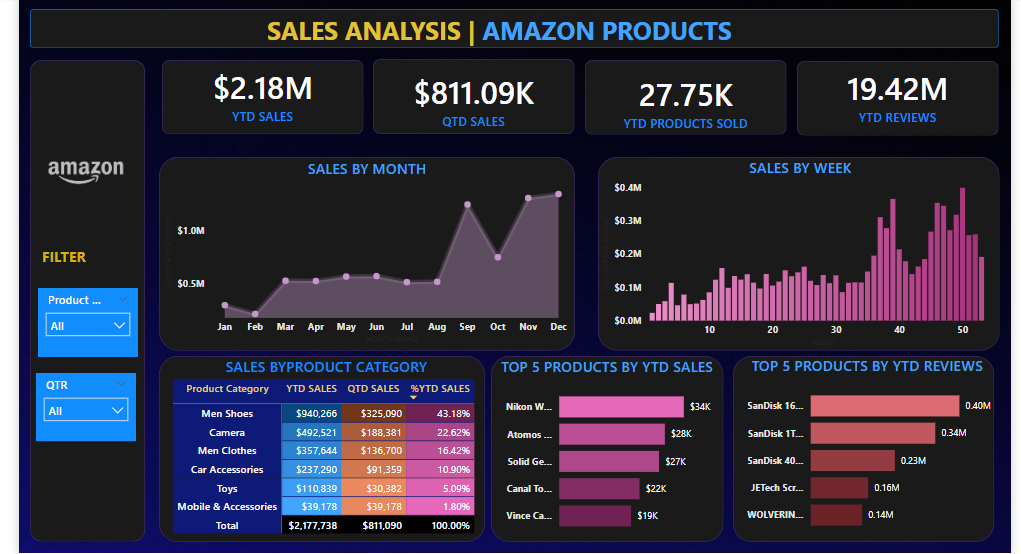

The page's visual inventory and layout, read from the dashboard file:
{"tool":"powerbi","page":{"name":"Page 1","canvas":[1280,720],"ordinal":0},"visuals":[{"type":"shape","box":[14.3,15.7,1250,50],"z":0},{"type":"textbox","box":[314.3,15.7,625.7,55.7],"z":1000},{"type":"shape","box":[14.3,81.4,148.6,621.4],"z":2000},{"type":"shape","box":[184.3,81.4,260,95.7],"z":3000},{"type":"card","fields":{"Values":["Amazon_Data.YTD SALES"]},"box":[185,76.7,260,100],"z":4000},{"type":"shape","box":[730.3,81.2,260.1,96.3],"z":5000},{"type":"shape","box":[1003.4,82.6,260.1,96.3],"z":6000},{"type":"shape","box":[456.9,79.5,260.2,96.9],"z":7000},{"type":"card","fields":{"Values":["Amazon_Data.QTD SALES"]},"box":[456.7,81.7,260,101.7],"z":8000},{"type":"card","fields":{"Values":["Amazon_Data.YTD PRODUCTS SOLD"]},"box":[730,83.3,260,101.7],"z":9000},{"type":"card","fields":{"Values":["Amazon_Data.YTD REVIEWS"]},"box":[1003.3,76.7,260,101.7],"z":10000},{"type":"shape","box":[180,206.7,536.7,250],"z":11000},{"type":"areaChart","title":"SALES BY MONTH","fields":{"Category":["DATE TABLE.MONTH NAME"],"Y":["Sum(Amazon_Data.Price(Dollar))"]},"box":[182.2,208.2,534.9,244.3],"z":12000},{"type":"shape","box":[746.7,206.7,518.3,250],"z":13000},{"type":"columnChart","title":"SALES BY WEEK","fields":{"Category":["DATE TABLE.WEEK"],"Y":["Sum(Amazon_Data.Price(Dollar))"]},"box":[746,206.7,524.8,250.1],"z":14000},{"type":"shape","box":[180.7,462.7,420.7,240],"z":15000},{"type":"pivotTable","title":"SALES BYPRODUCT CATEGORY","fields":{"Rows":["Amazon_Data.Product Category"],"Values":["Amazon_Data.YTD SALES1","Amazon_Data.QTD SALES","Amazon_Data.YTD SALES"]},"box":[193.2,463.6,406.5,238.5],"z":16000},{"type":"shape","box":[608.6,462.9,300,240],"z":17000},{"type":"shape","box":[921.4,462.9,337.1,240],"z":18000},{"type":"barChart","title":"TOP 5 PRODUCTS BY YTD  SALES","fields":{"Category":["Amazon_Data.Product Description"],"Y":["Amazon_Data.YTD SALES"]},"box":[608.6,462.9,300,240],"z":19000},{"type":"barChart","title":"TOP 5 PRODUCTS BY YTD REVIEWS","fields":{"Category":["Amazon_Data.Product Description"],"Y":["Amazon_Data.YTD REVIEWS"]},"box":[922.2,461.9,344.4,240.2],"z":20000},{"type":"slicer","fields":{"Values":["DATE TABLE.QTR"]},"box":[22.5,485,128.8,87.5],"z":21000},{"type":"image","box":[8.8,196.2,157.5,66.2],"z":22000},{"type":"slicer","fields":{"Values":["Amazon_Data.Product Category"]},"box":[24.3,375.7,128.6,88.6],"z":23000},{"type":"textbox","box":[24.3,317.1,98.6,42.9],"z":24000}]}

Visuals, with their boxes on the page's 1280x720 design canvas (x1, y1, x2, y2). These are canvas units, not pixel positions in the 1021x554 screenshot, which may show the page scaled, cropped or inside an application window:
shape: x1=14 y1=16 x2=1264 y2=66
textbox: x1=314 y1=16 x2=940 y2=71
shape: x1=14 y1=81 x2=163 y2=703
shape: x1=184 y1=81 x2=444 y2=177
card - Amazon_Data.YTD SALES: x1=185 y1=77 x2=445 y2=177
shape: x1=730 y1=81 x2=990 y2=178
shape: x1=1003 y1=83 x2=1264 y2=179
shape: x1=457 y1=80 x2=717 y2=176
card - Amazon_Data.QTD SALES: x1=457 y1=82 x2=717 y2=183
card - Amazon_Data.YTD PRODUCTS SOLD: x1=730 y1=83 x2=990 y2=185
card - Amazon_Data.YTD REVIEWS: x1=1003 y1=77 x2=1263 y2=178
shape: x1=180 y1=207 x2=717 y2=457
"SALES BY MONTH" areaChart: x1=182 y1=208 x2=717 y2=452
shape: x1=747 y1=207 x2=1265 y2=457
"SALES BY WEEK" columnChart: x1=746 y1=207 x2=1271 y2=457
shape: x1=181 y1=463 x2=601 y2=703
"SALES BYPRODUCT CATEGORY" pivotTable: x1=193 y1=464 x2=600 y2=702
shape: x1=609 y1=463 x2=909 y2=703
shape: x1=921 y1=463 x2=1258 y2=703
"TOP 5 PRODUCTS BY YTD  SALES" barChart: x1=609 y1=463 x2=909 y2=703
"TOP 5 PRODUCTS BY YTD REVIEWS" barChart: x1=922 y1=462 x2=1267 y2=702
slicer - DATE TABLE.QTR: x1=22 y1=485 x2=151 y2=572
image: x1=9 y1=196 x2=166 y2=262
slicer - Amazon_Data.Product Category: x1=24 y1=376 x2=153 y2=464
textbox: x1=24 y1=317 x2=123 y2=360
